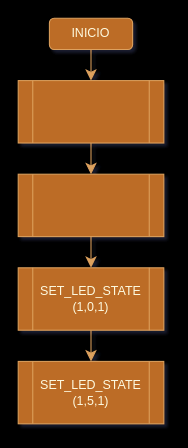
Image size: 188x448. Some labels were removed from this diagram. The centre of each missing label's shape, as x and y in pixels:
"SET_LED_STATE (0,0,1)" goes at point 90,111.
"SET_LED_STATE (0,5,1)" goes at point 90,205.
